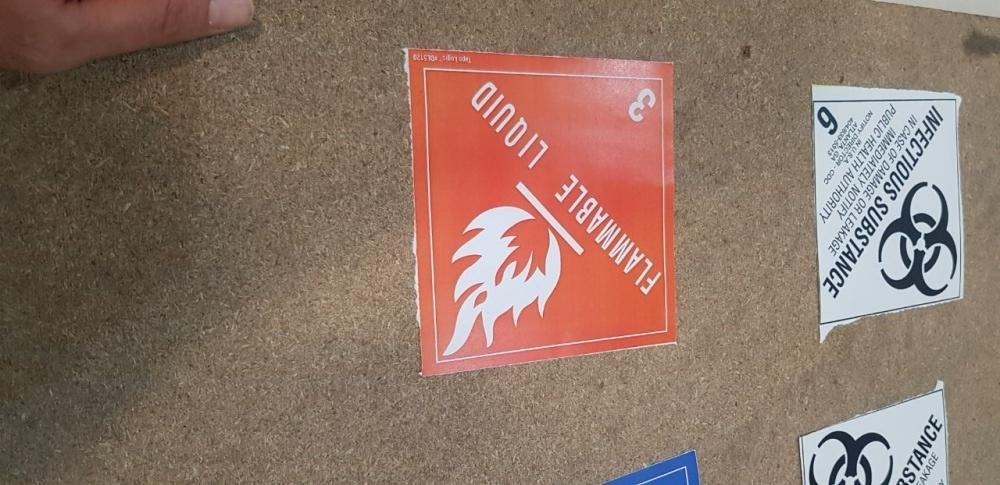flammable: (404, 51, 675, 364)
infectious-substance: (808, 85, 967, 320), (796, 385, 954, 484)
